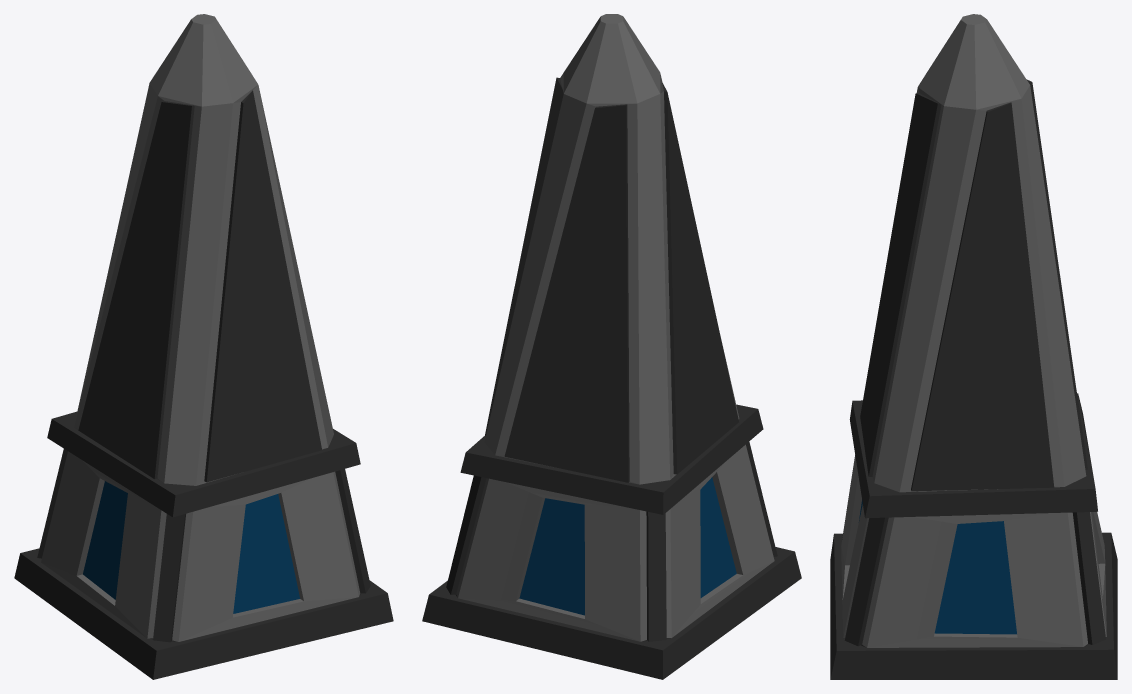
The model's file is spire.glb.
3 renders of one model, left to right at view 1: azimuth 30°, elevation 25°; view 2: azimuth 150°, elevation 25°; view 3: azimuth 270°, elevation 25°, orthographic. The views are drawn at different scales.
Parts seen in each view (by area): view 1: Cube; view 2: Cube; view 3: Cube.
Boxes of the visible parts, x1,y1,x2,y2 form: Cube: [14, 14, 393, 679]; Cube: [422, 14, 801, 679]; Cube: [830, 14, 1117, 679].
Bounding box in the file's own units: 12.73 × 29.36 × 12.73.
